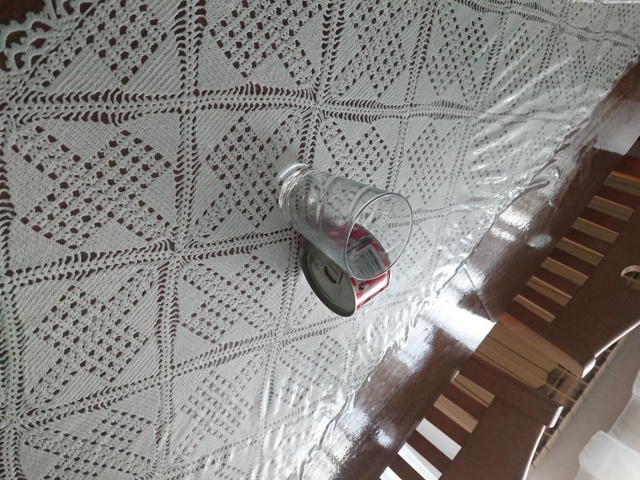Podravka Luncheon Meat 150g: (296, 219, 393, 319)
